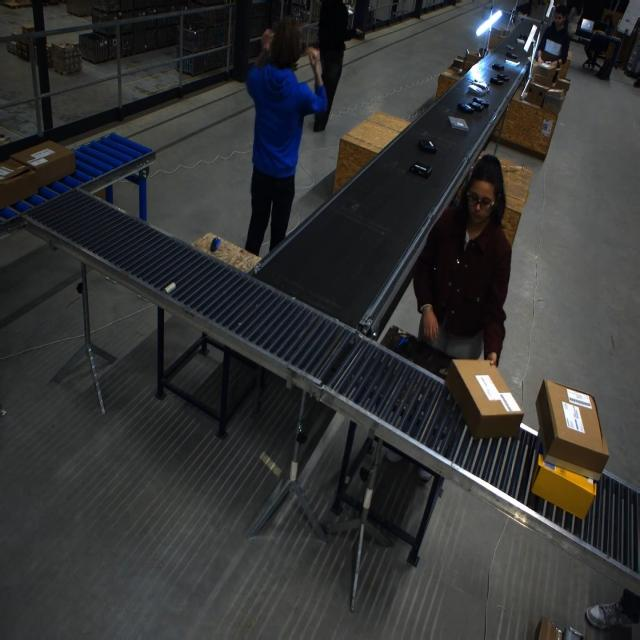box: (534, 380, 610, 480), (0, 138, 81, 215), (444, 360, 522, 438), (530, 61, 559, 88), (523, 82, 550, 108), (541, 89, 565, 114), (548, 77, 571, 98), (460, 50, 480, 74), (555, 57, 571, 83), (489, 26, 510, 41), (452, 57, 464, 70)
product: (408, 163, 432, 178), (418, 138, 438, 153), (448, 116, 469, 130), (470, 81, 489, 91), (457, 102, 474, 113), (472, 97, 489, 107), (469, 101, 484, 112), (490, 75, 505, 85), (504, 58, 520, 66), (496, 73, 510, 81), (505, 52, 517, 60), (491, 63, 504, 70), (516, 37, 526, 45), (505, 44, 515, 51)
